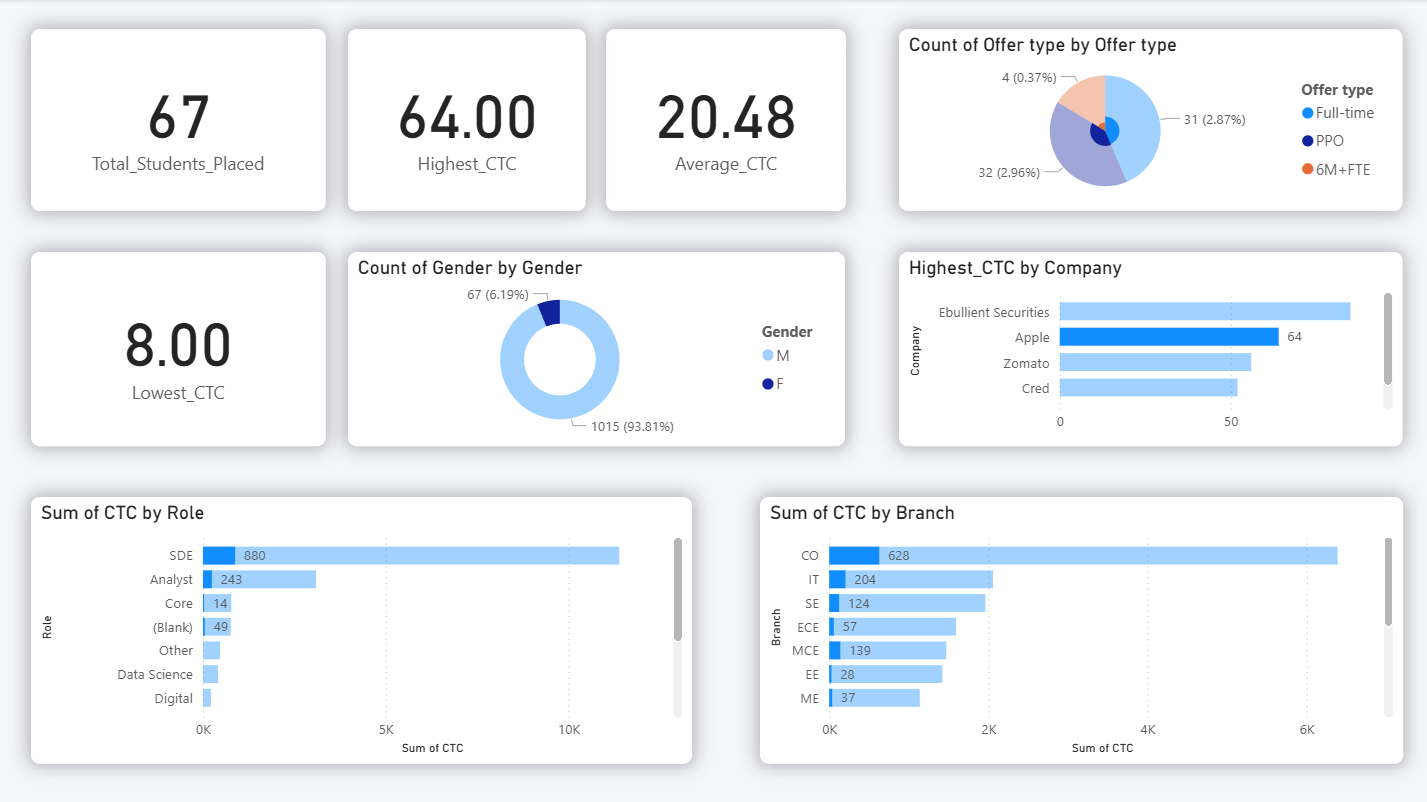

The dashboard page shown, as its layout file describes it:
{"tool":"powerbi","page":{"name":"Page 1","canvas":[1280,720],"ordinal":0},"visuals":[{"type":"card","fields":{"Values":["placement_data.Average_CTC"]},"box":[544.4,26.5,215,163.4],"z":0},{"type":"card","fields":{"Values":["placement_data.Highest_CTC"]},"box":[313.9,26.5,213,163.4],"z":1000},{"type":"card","fields":{"Values":["placement_data.Lowest_CTC"]},"box":[30,226.4,263.6,173.6],"z":2000},{"type":"card","fields":{"Values":["placement_data.Total_Students_Placed"]},"box":[29.9,26.5,263.6,163.4],"z":3000},{"type":"donutChart","fields":{"Category":["placement_data.Gender"],"Y":["CountNonNull(placement_data.Gender)"]},"box":[313.6,226.4,445.5,173.6],"z":4000},{"type":"clusteredBarChart","fields":{"Category":["placement_data.Role"],"Y":["Sum(placement_data.CTC)"]},"box":[29.9,445.7,592.3,239.3],"z":5000},{"type":"clusteredBarChart","fields":{"Category":["placement_data.Branch"],"Y":["Sum(placement_data.CTC)"]},"box":[682.5,445.7,575.8,239.3],"z":6000},{"type":"barChart","fields":{"Category":["placement_data.Company"],"Y":["placement_data.Highest_CTC"]},"box":[807.3,226.4,450.9,173.6],"z":7000},{"type":"pieChart","fields":{"Category":["placement_data.Offer type"],"Y":["CountNonNull(placement_data.Offer type)"]},"box":[807,26.5,451.3,163.4],"z":8000}]}

Visuals, with their boxes in screenshot pixels (x1, y1, x2, y2), scaled from the page's 1280x720 canvas onto the 1427x802 screenshot:
card - placement_data.Average_CTC: Rect(607, 30, 847, 212)
card - placement_data.Highest_CTC: Rect(350, 30, 587, 212)
card - placement_data.Lowest_CTC: Rect(33, 252, 327, 446)
card - placement_data.Total_Students_Placed: Rect(33, 30, 327, 212)
donutChart - placement_data.Gender x CountNonNull(placement_data.Gender): Rect(350, 252, 846, 446)
clusteredBarChart - placement_data.Role x Sum(placement_data.CTC): Rect(33, 496, 694, 763)
clusteredBarChart - placement_data.Branch x Sum(placement_data.CTC): Rect(761, 496, 1403, 763)
barChart - placement_data.Company x placement_data.Highest_CTC: Rect(900, 252, 1403, 446)
pieChart - placement_data.Offer type x CountNonNull(placement_data.Offer type): Rect(900, 30, 1403, 212)
